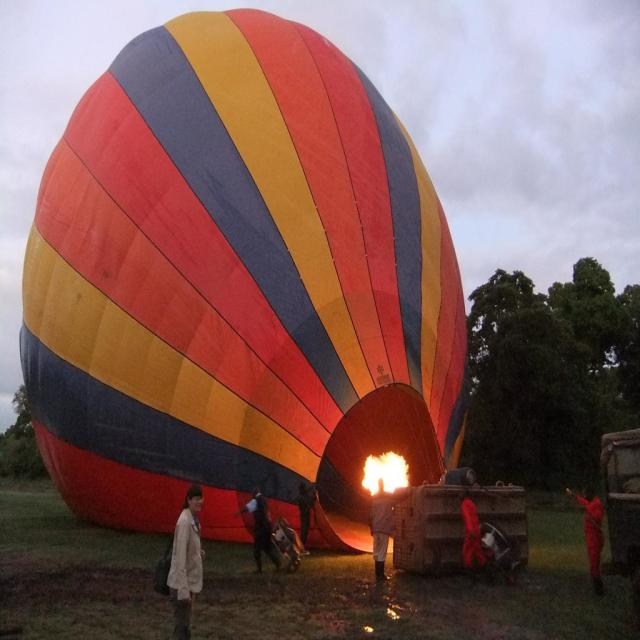balloon: (20, 8, 473, 554)
